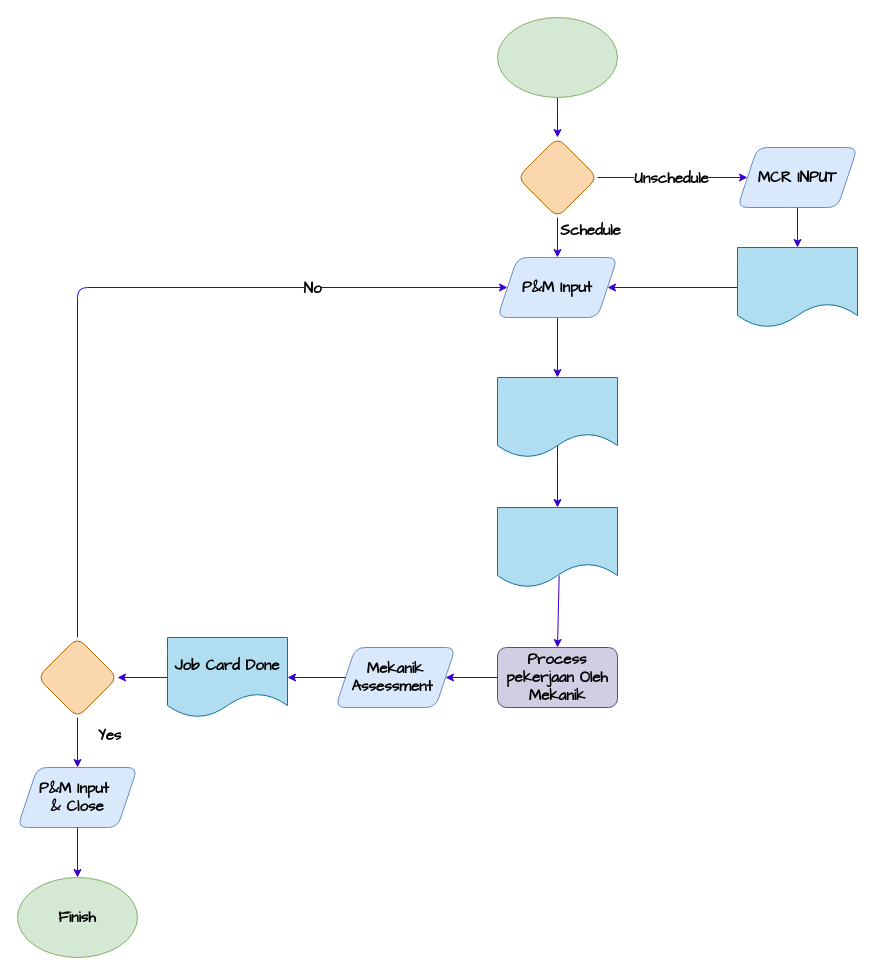
Image size: 875x975. Some labels were removed from this diagram. The shapes that lost their labels are listed below. From the top down, each one's box as (x1, y1, x2, y2) in pixels, then its label:
(496, 16, 618, 98): Start
(736, 246, 858, 328): WR Document
(496, 376, 618, 458): WO Document
(496, 506, 618, 588): Job Card
